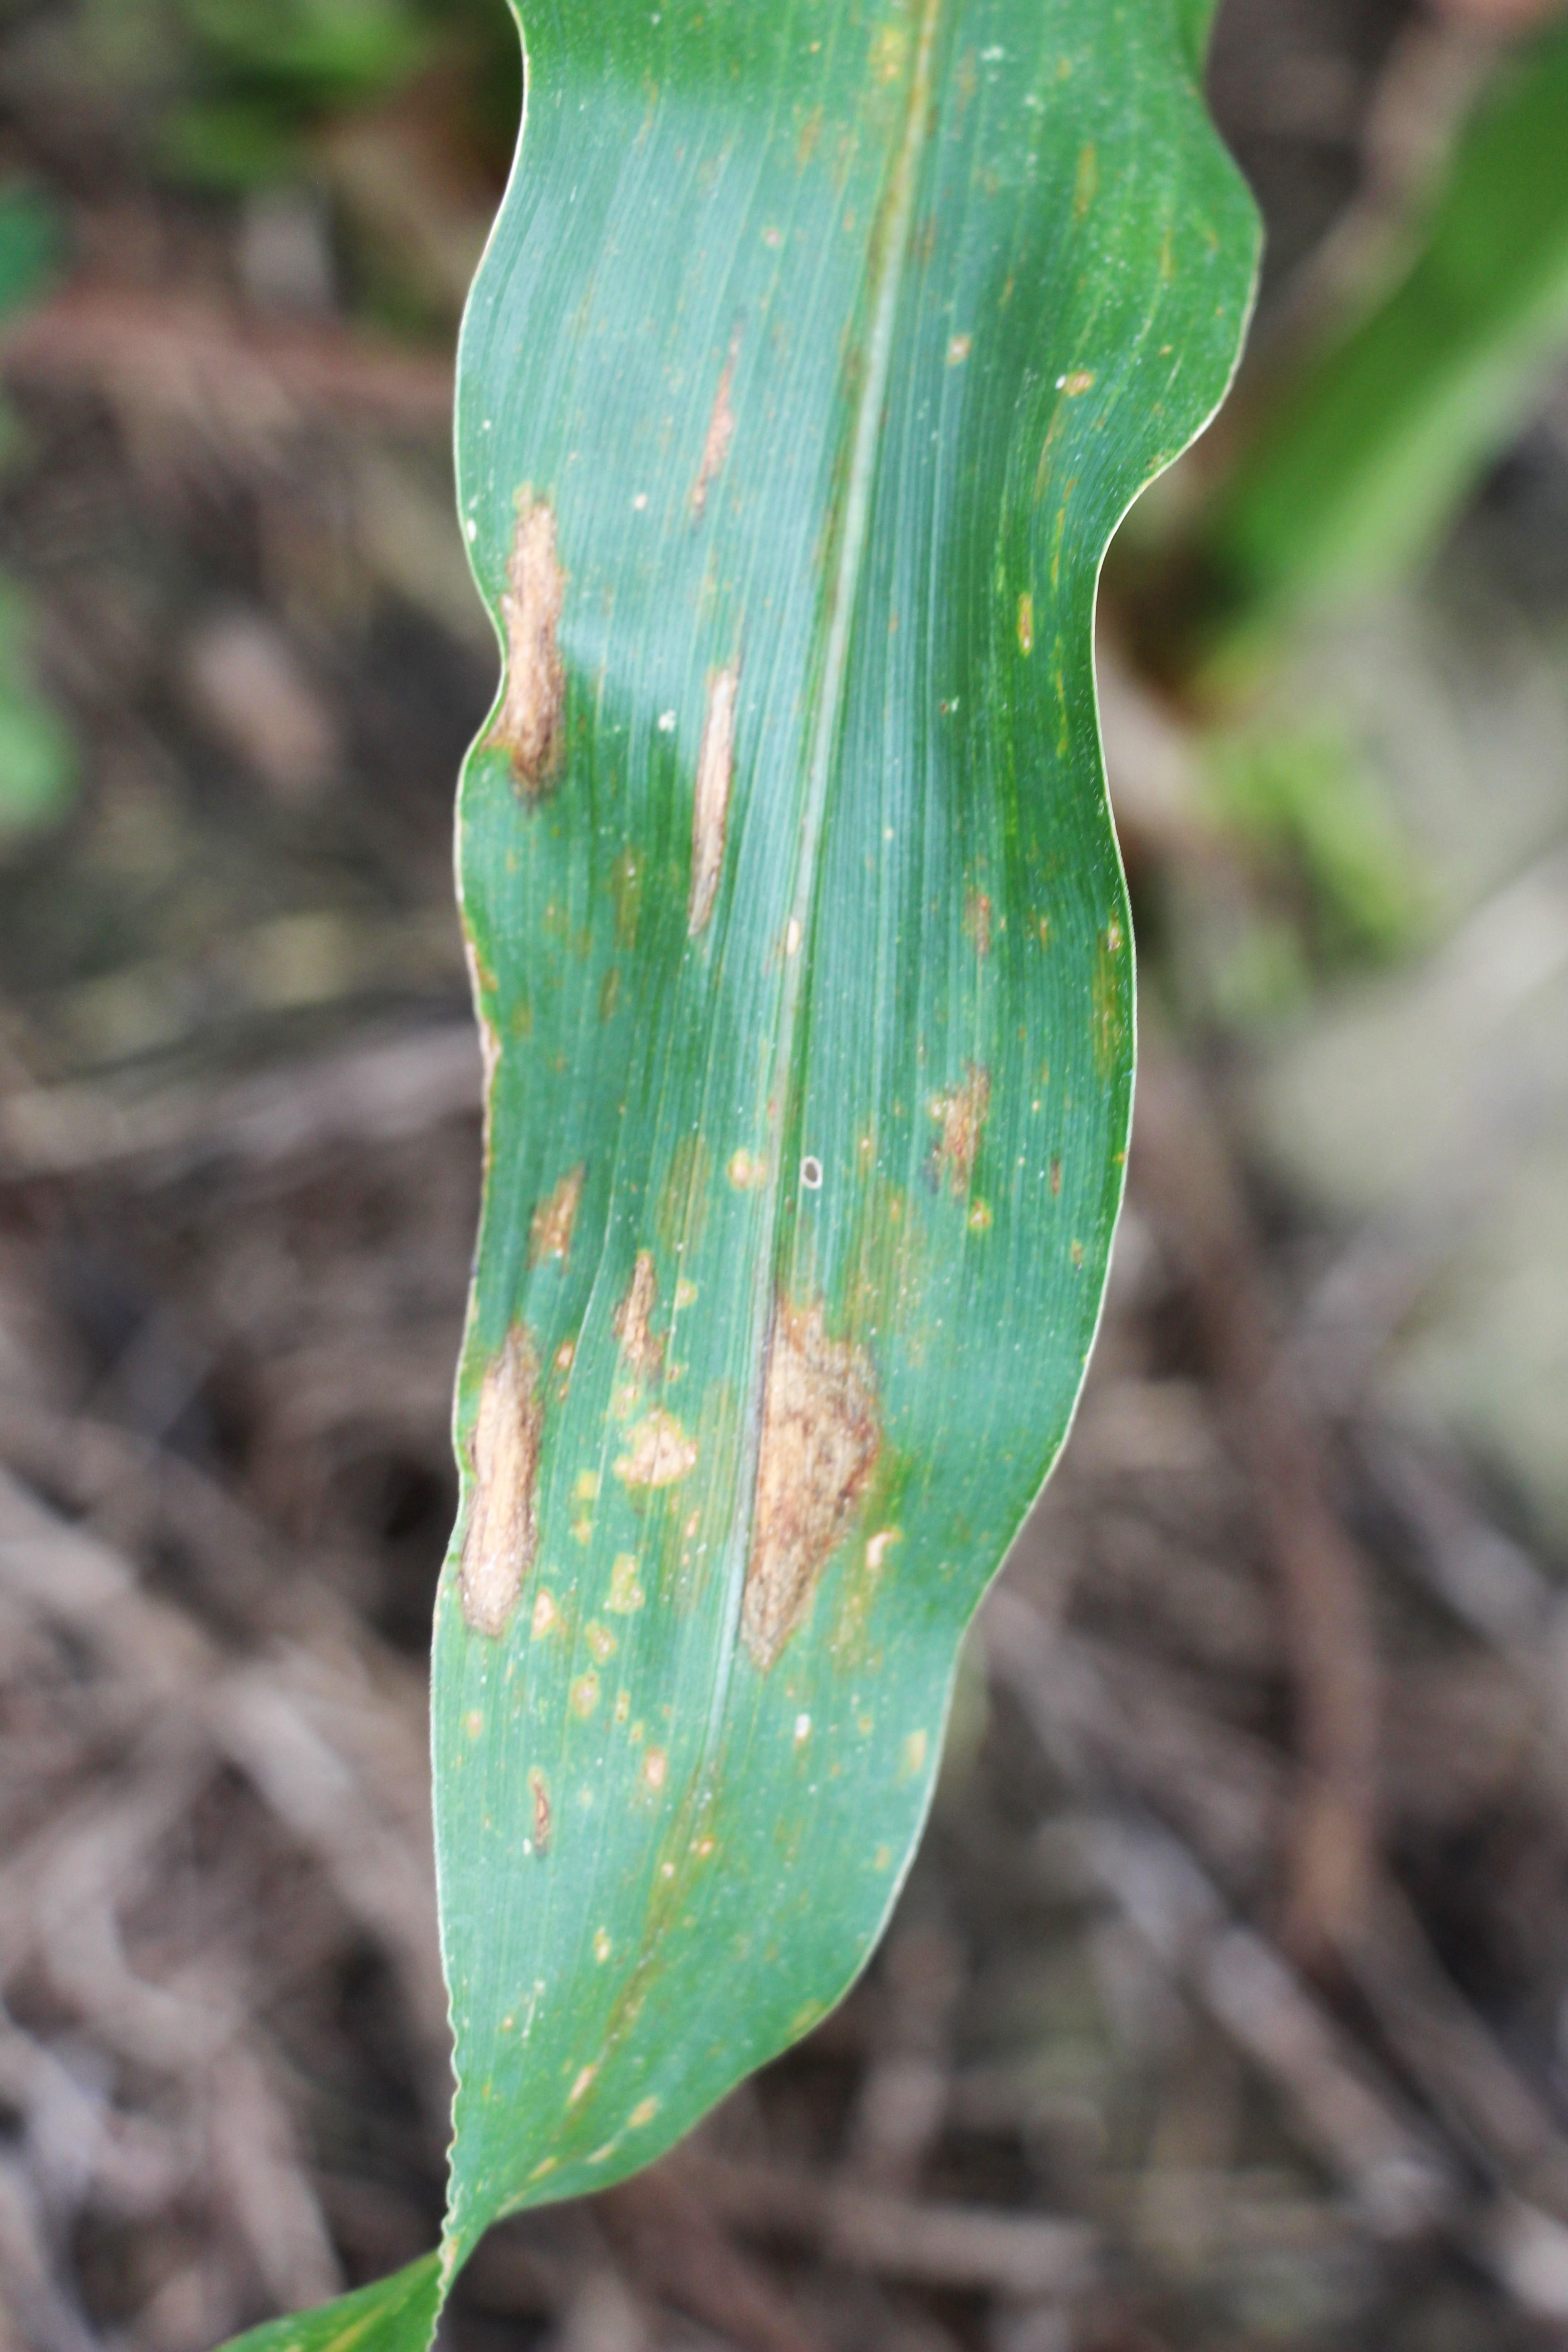Corn leaf blight: (415, 10, 1255, 2336)
